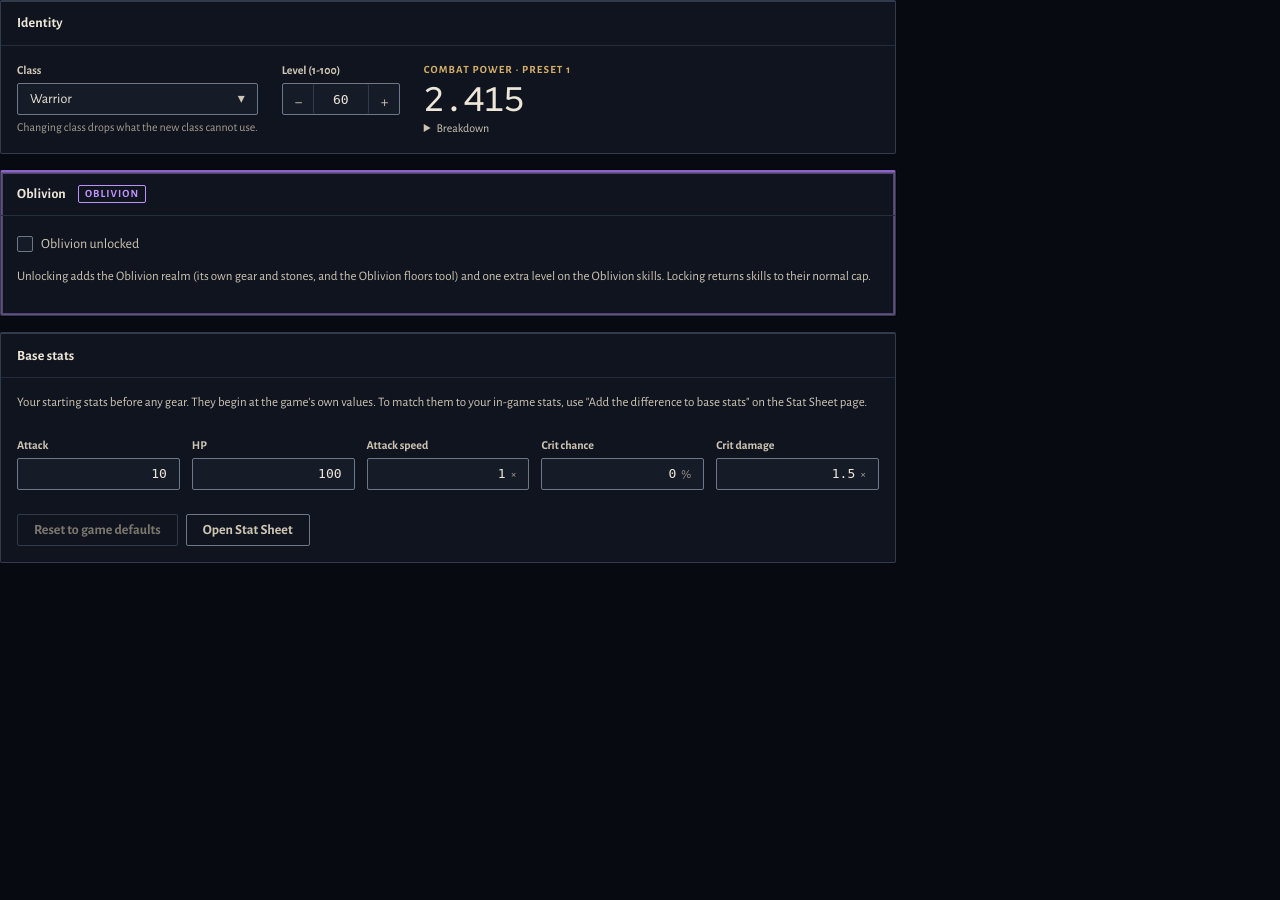
Test: cancelling the drop preview keeps the level and the stepper shows it again
Replace the text in the number field named "Level" with "10" at [341, 99], box [313,84,369,114]
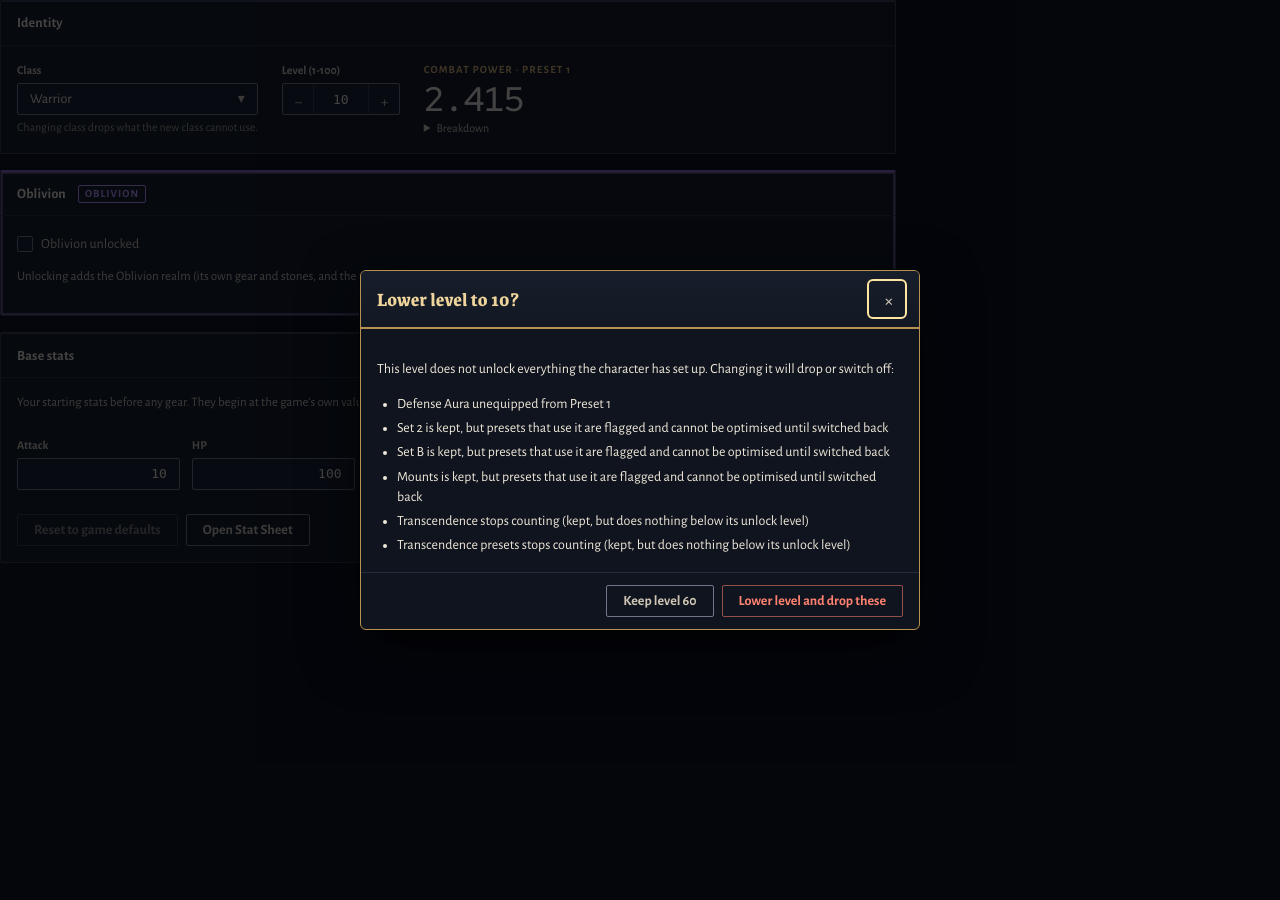
Click the button "Keep level 60" at [660, 601], box [606,585,714,617]
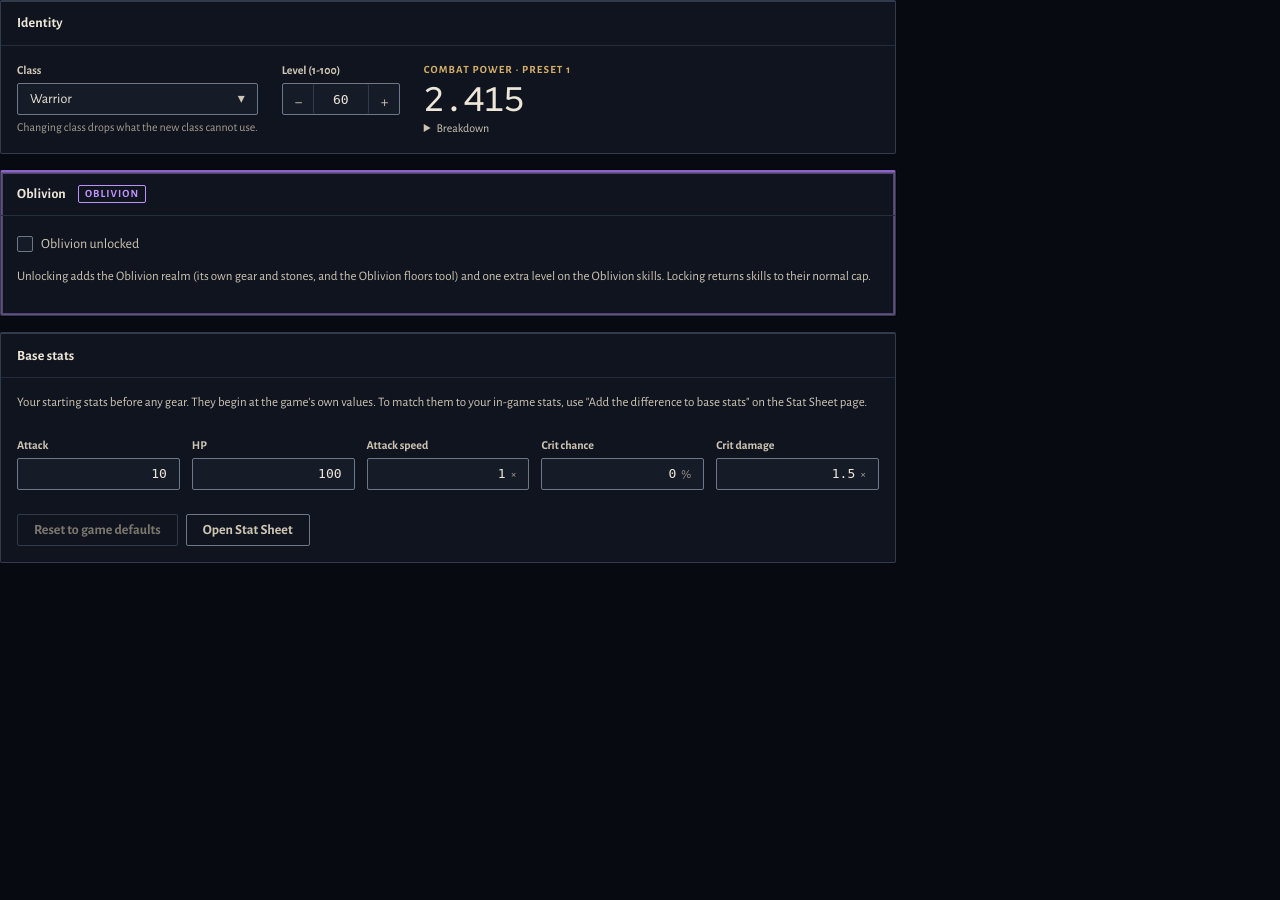
Now the number field named "Level" holds "60", box [313,84,369,114]
